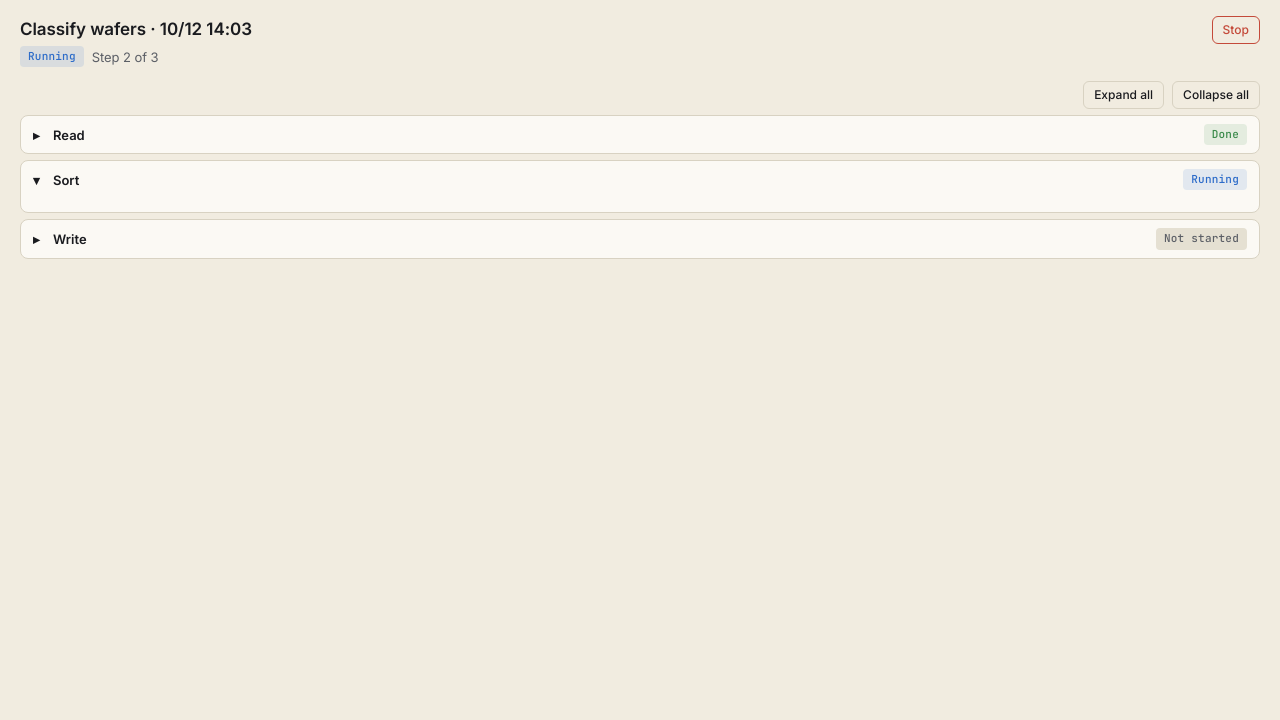
Test: ExecutionView › expands all, and collapsing all leaves the step being worked on open
Step 1. Click the button "Expand all" → (1124, 95), box [1083, 81, 1164, 109]
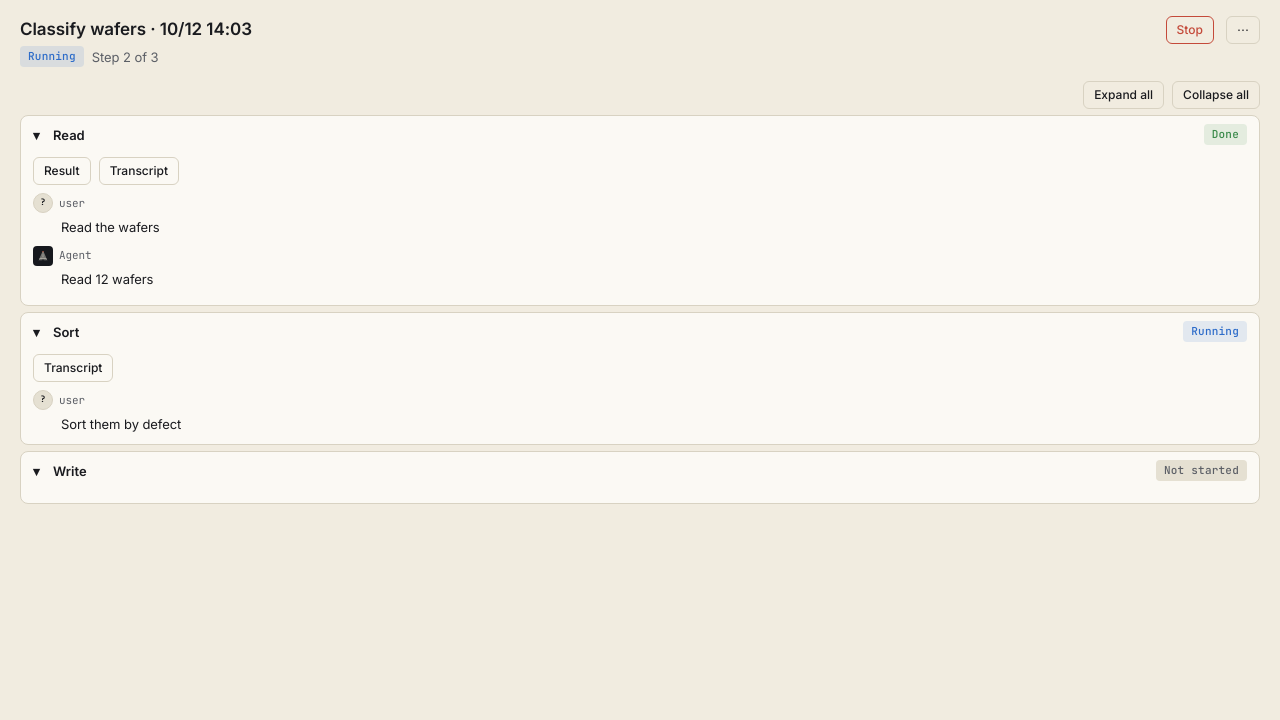
Expected: the button "▾ Read Done" is expanded, [21, 116, 1259, 153]
Expected: the button "▾ Write Not started" is expanded, [21, 452, 1259, 489]
Step 2. Click the button "Collapse all" → (1216, 95), box [1172, 81, 1260, 109]
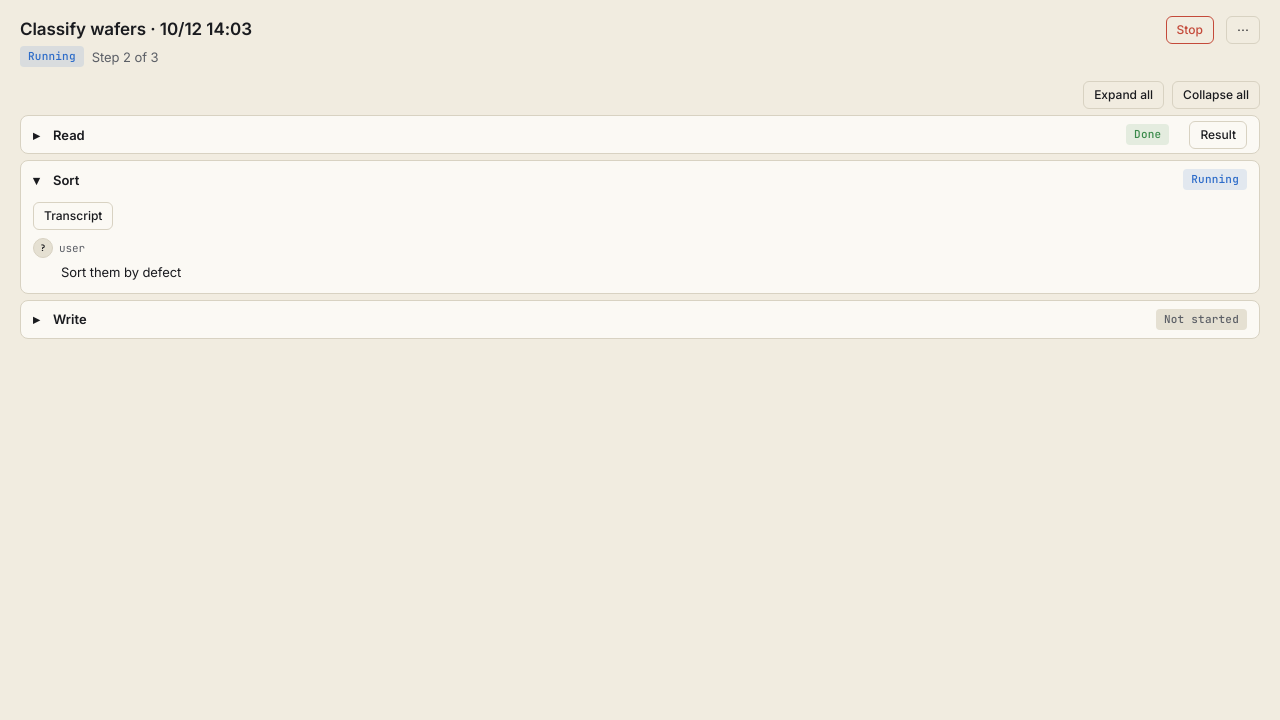
Expected: the button "▸ Read Done" is collapsed, [21, 116, 1181, 153]
